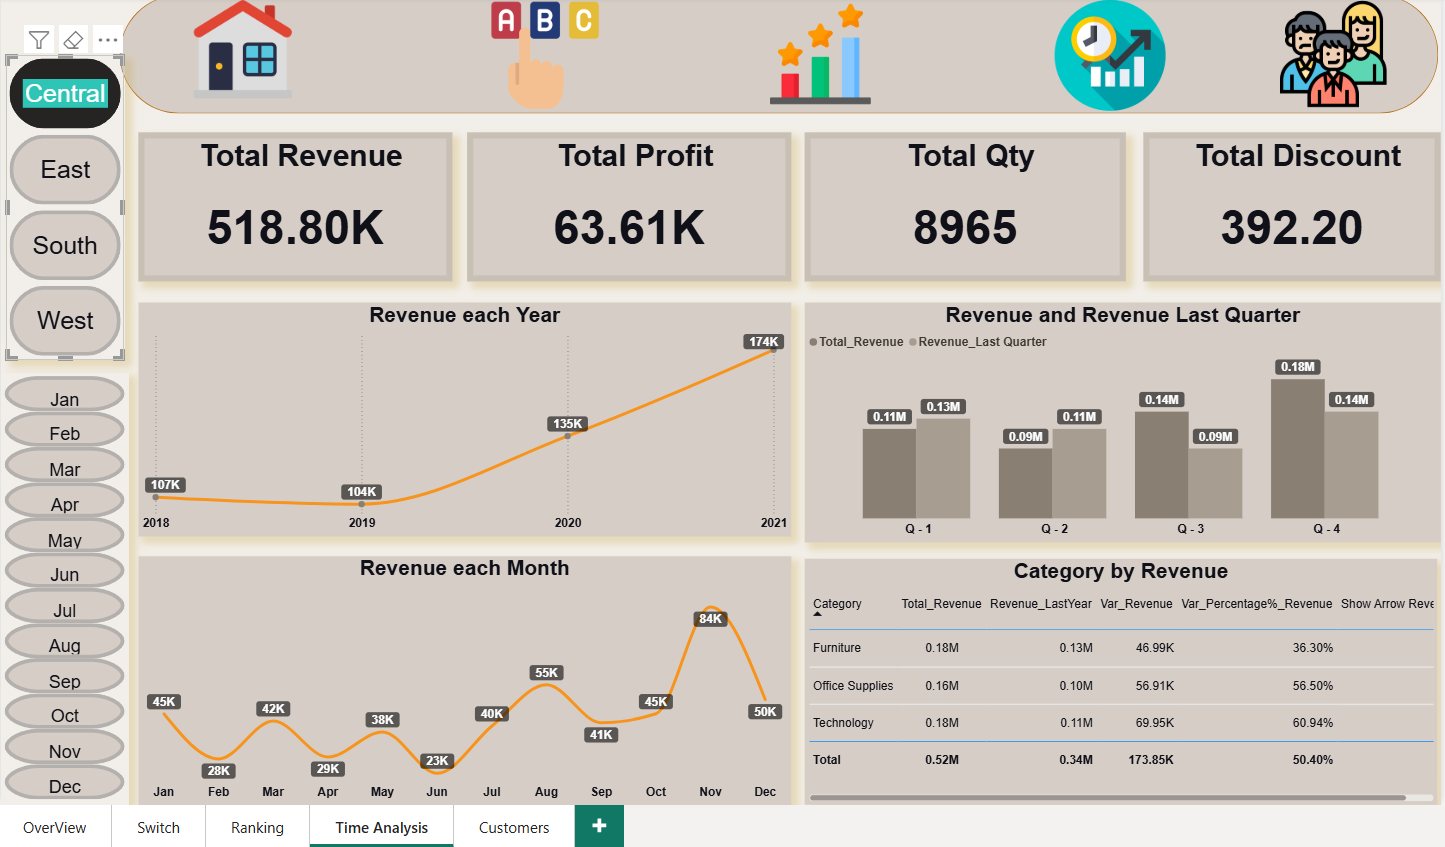

The page's visual inventory and layout, read from the dashboard file:
{"tool":"powerbi","page":{"name":"Time Analysis","canvas":[1920,1080],"ordinal":3},"visuals":[{"type":"advancedSlicerVisual","fields":{"Values":["Calendar_Table.Month_Name"]},"box":[0,504,170,576],"z":0},{"type":"shape","box":[158,0,1758,158],"z":1000},{"type":"card","fields":{"Values":["Dax.Show % Revenue"]},"box":[200,314,124,104],"z":2000},{"type":"card","fields":{"Values":["Dax.Show Arrow Revenue"]},"box":[392,312,170,106],"z":3000},{"type":"card","fields":{"Values":["Dax.Show % Profit"]},"box":[584,312,122,104],"z":4000},{"type":"card","fields":{"Values":["Dax.Show Arrow Profit"]},"box":[774,308,170,108],"z":5000},{"type":"card","fields":{"Values":["Dax.Show % Quantity"]},"box":[944,308,136,102],"z":6000},{"type":"card","fields":{"Values":["Dax.Show Arrow Quantity"]},"box":[1172,308,172,104],"z":7000},{"type":"card","fields":{"Values":["Dax.Show % Discount"]},"box":[1344,310,136,102],"z":8000},{"type":"card","fields":{"Values":["Dax.Show Arrow Discount"]},"box":[1558,306,172,104],"z":9000},{"type":"clusteredColumnChart","title":"Revenue and Revenue Last Quarter ","fields":{"Y":["Dax.Total_Revenue","Calendar_Table.Revenue_Last Quarter"],"Category":["Calendar_Table.Quarter"]},"box":[1071.7,410,848.3,320],"z":10000},{"type":"lineChart","title":"Revenue each Month","fields":{"Category":["Calendar_Table.Month_Name"],"Y":["Dax.Total_Revenue"]},"box":[183.3,748.3,870,331.7],"z":11000},{"type":"lineChart","title":"Revenue each Year","fields":{"Y":["Dax.Total_Revenue"],"Category":["Calendar_Table.Year"]},"box":[183.3,410,870,311.7],"z":12000},{"type":"tableEx","title":"Category by Revenue","fields":{"Values":["Dim_Product.Category","Dax.Total_Revenue","Dax.Revenue_LastYear","Dax.Var_Revenue","Dax.Var_Percentage%_Revenue","Dax.Show Arrow Revenue"]},"box":[1071.7,751.7,843.3,328.3],"z":13000},{"type":"image","box":[230.7,0,184.2,144.8],"z":14000},{"type":"image","box":[646,2,158,158],"z":15000},{"type":"image","box":[1698,0,156,158],"z":16000},{"type":"image","box":[1014,6,158,144],"z":17000},{"type":"image","box":[1400,2,158,158],"z":18000},{"type":"advancedSlicerVisual","fields":{"Values":["Dim_Customer.Region"]},"box":[6,80,158,406],"z":19000},{"type":"card","title":"Total Profit","fields":{"Values":["Dax.Total_Profit"]},"box":[622,184,432,198],"z":20000},{"type":"card","title":"Total Qty","fields":{"Values":["Dax.Total_Quantity"]},"box":[1072,184,428,198],"z":21000},{"type":"card","title":"Total Discount","fields":{"Values":["Dax.Total_Discount"]},"box":[1524,184,396,198],"z":22000},{"type":"card","title":"Total Revenue","fields":{"Values":["Dax.Total_Revenue"]},"box":[184,184,418,198],"z":23000}]}

Visuals, with their boxes on the page's 1920x1080 design canvas (x1, y1, x2, y2). These are canvas units, not pixel positions in the 1445x847 screenshot, which may show the page scaled, cropped or inside an application window:
advancedSlicerVisual - Calendar_Table.Month_Name: rect(0, 504, 170, 1080)
shape: rect(158, 0, 1916, 158)
card - Dax.Show % Revenue: rect(200, 314, 324, 418)
card - Dax.Show Arrow Revenue: rect(392, 312, 562, 418)
card - Dax.Show % Profit: rect(584, 312, 706, 416)
card - Dax.Show Arrow Profit: rect(774, 308, 944, 416)
card - Dax.Show % Quantity: rect(944, 308, 1080, 410)
card - Dax.Show Arrow Quantity: rect(1172, 308, 1344, 412)
card - Dax.Show % Discount: rect(1344, 310, 1480, 412)
card - Dax.Show Arrow Discount: rect(1558, 306, 1730, 410)
"Revenue and Revenue Last Quarter " clusteredColumnChart: rect(1072, 410, 1920, 730)
"Revenue each Month" lineChart: rect(183, 748, 1053, 1080)
"Revenue each Year" lineChart: rect(183, 410, 1053, 722)
"Category by Revenue" tableEx: rect(1072, 752, 1915, 1080)
image: rect(231, 0, 415, 145)
image: rect(646, 2, 804, 160)
image: rect(1698, 0, 1854, 158)
image: rect(1014, 6, 1172, 150)
image: rect(1400, 2, 1558, 160)
advancedSlicerVisual - Dim_Customer.Region: rect(6, 80, 164, 486)
"Total Profit" card: rect(622, 184, 1054, 382)
"Total Qty" card: rect(1072, 184, 1500, 382)
"Total Discount" card: rect(1524, 184, 1920, 382)
"Total Revenue" card: rect(184, 184, 602, 382)
